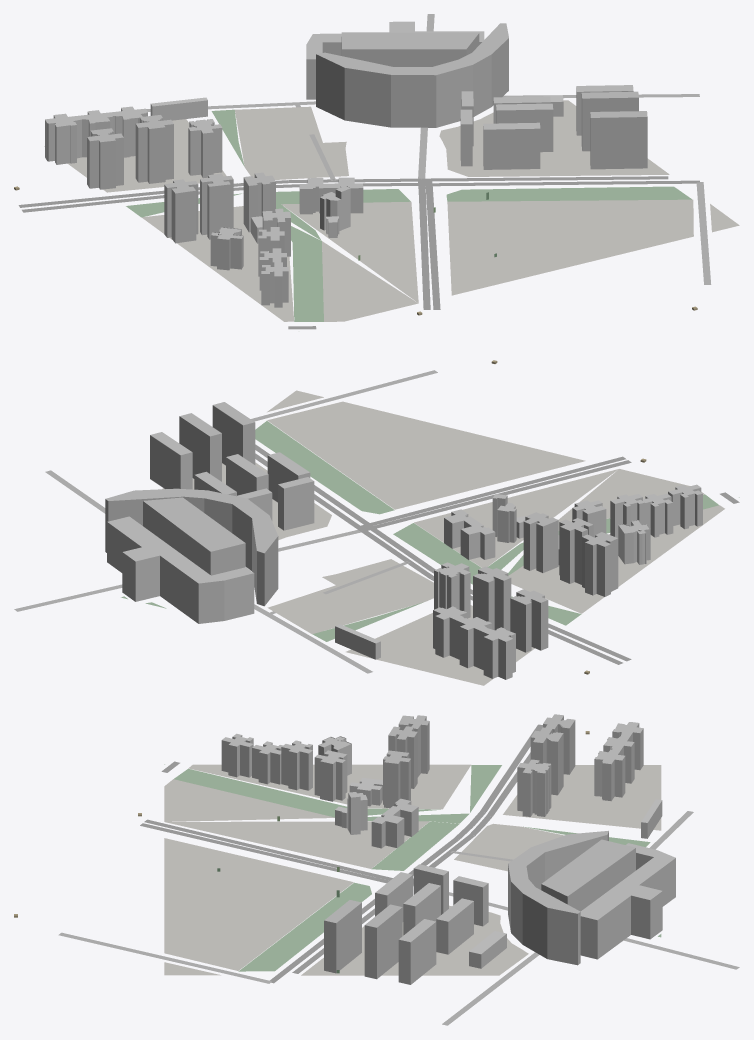
3 renders of one model, top to bottom at view 1: azimuth 30°, elevation 25°; view 2: azimuth 150°, elevation 25°; view 3: azimuth 270°, elevation 25°, orthographic. The views are drawn at different scales.
Bounding box in the file's own units: 714 × 60.2 × 730.
